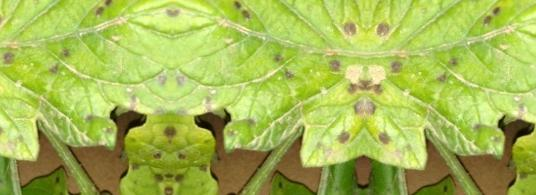Tomato Septoria leaf spot: (169, 0, 370, 171), (237, 175, 364, 195)
